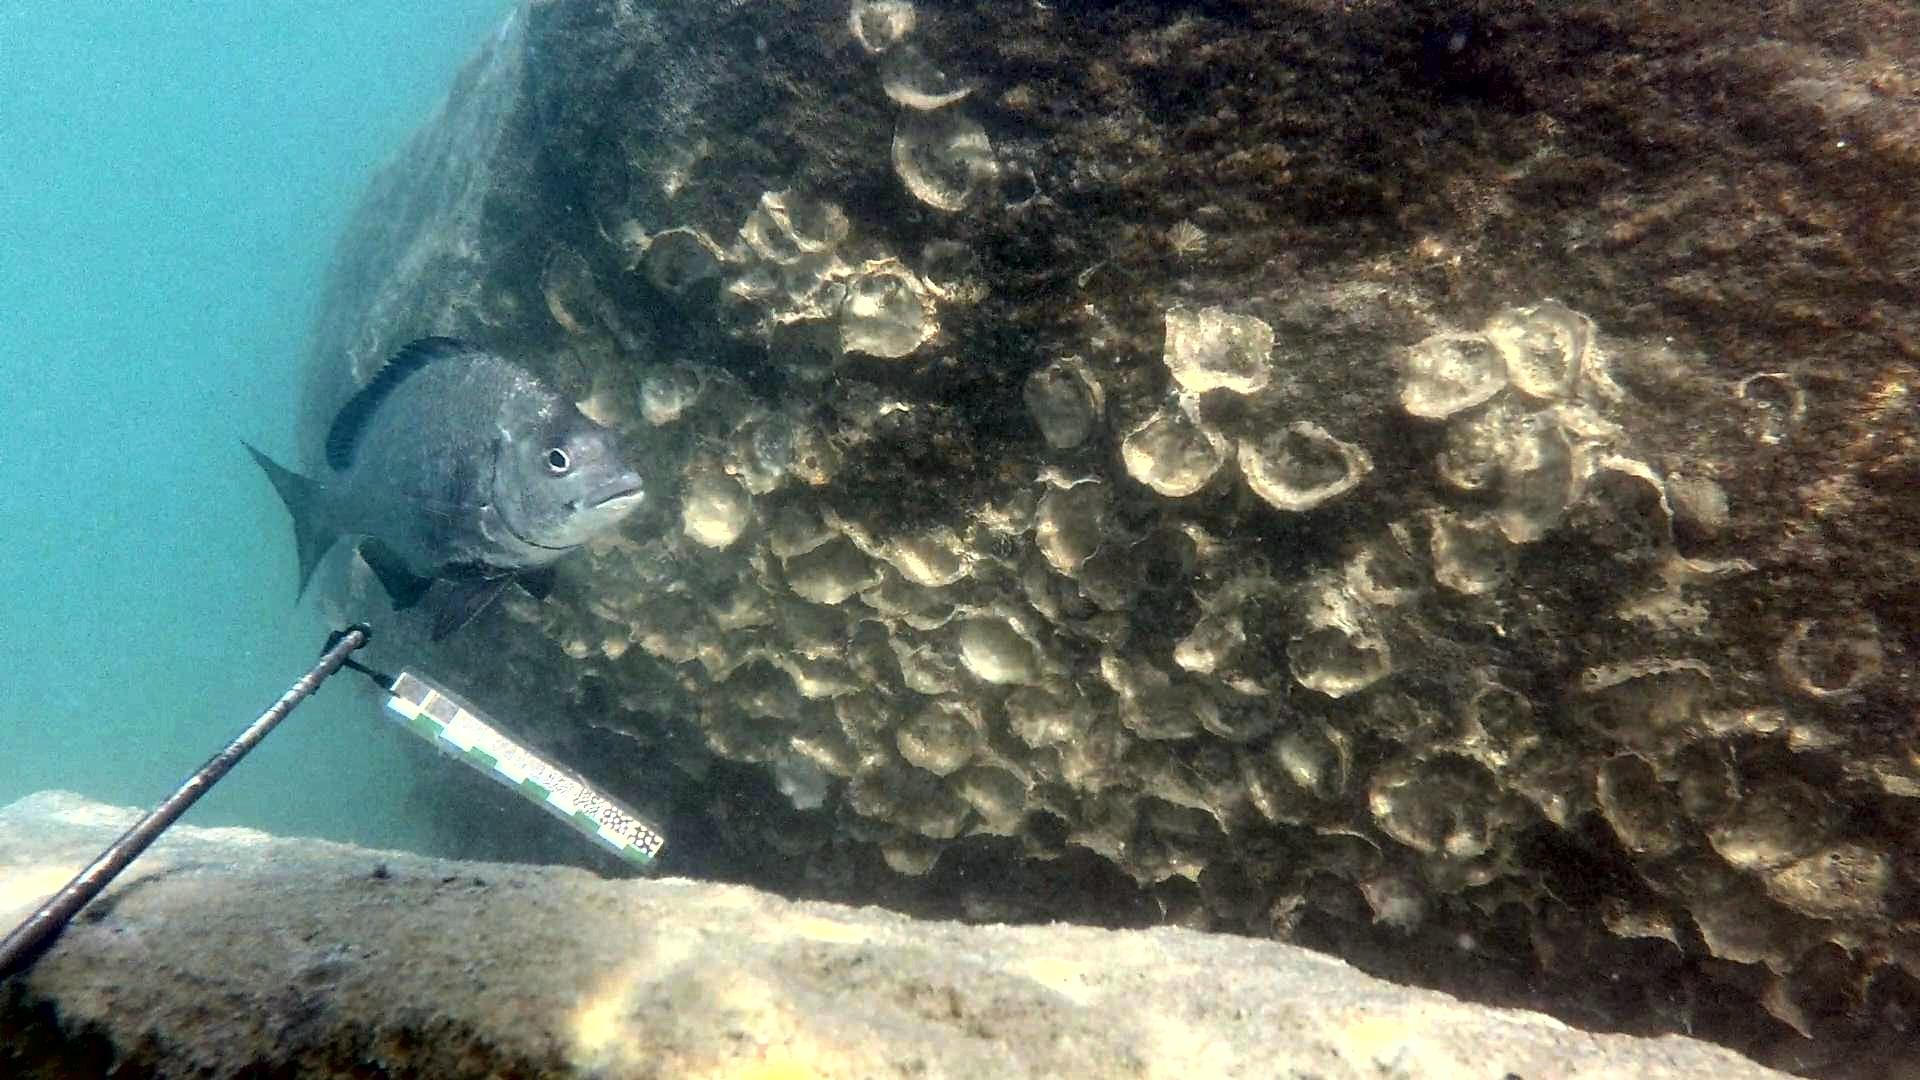acanthopagrus palmaris: (233, 323, 651, 653)
